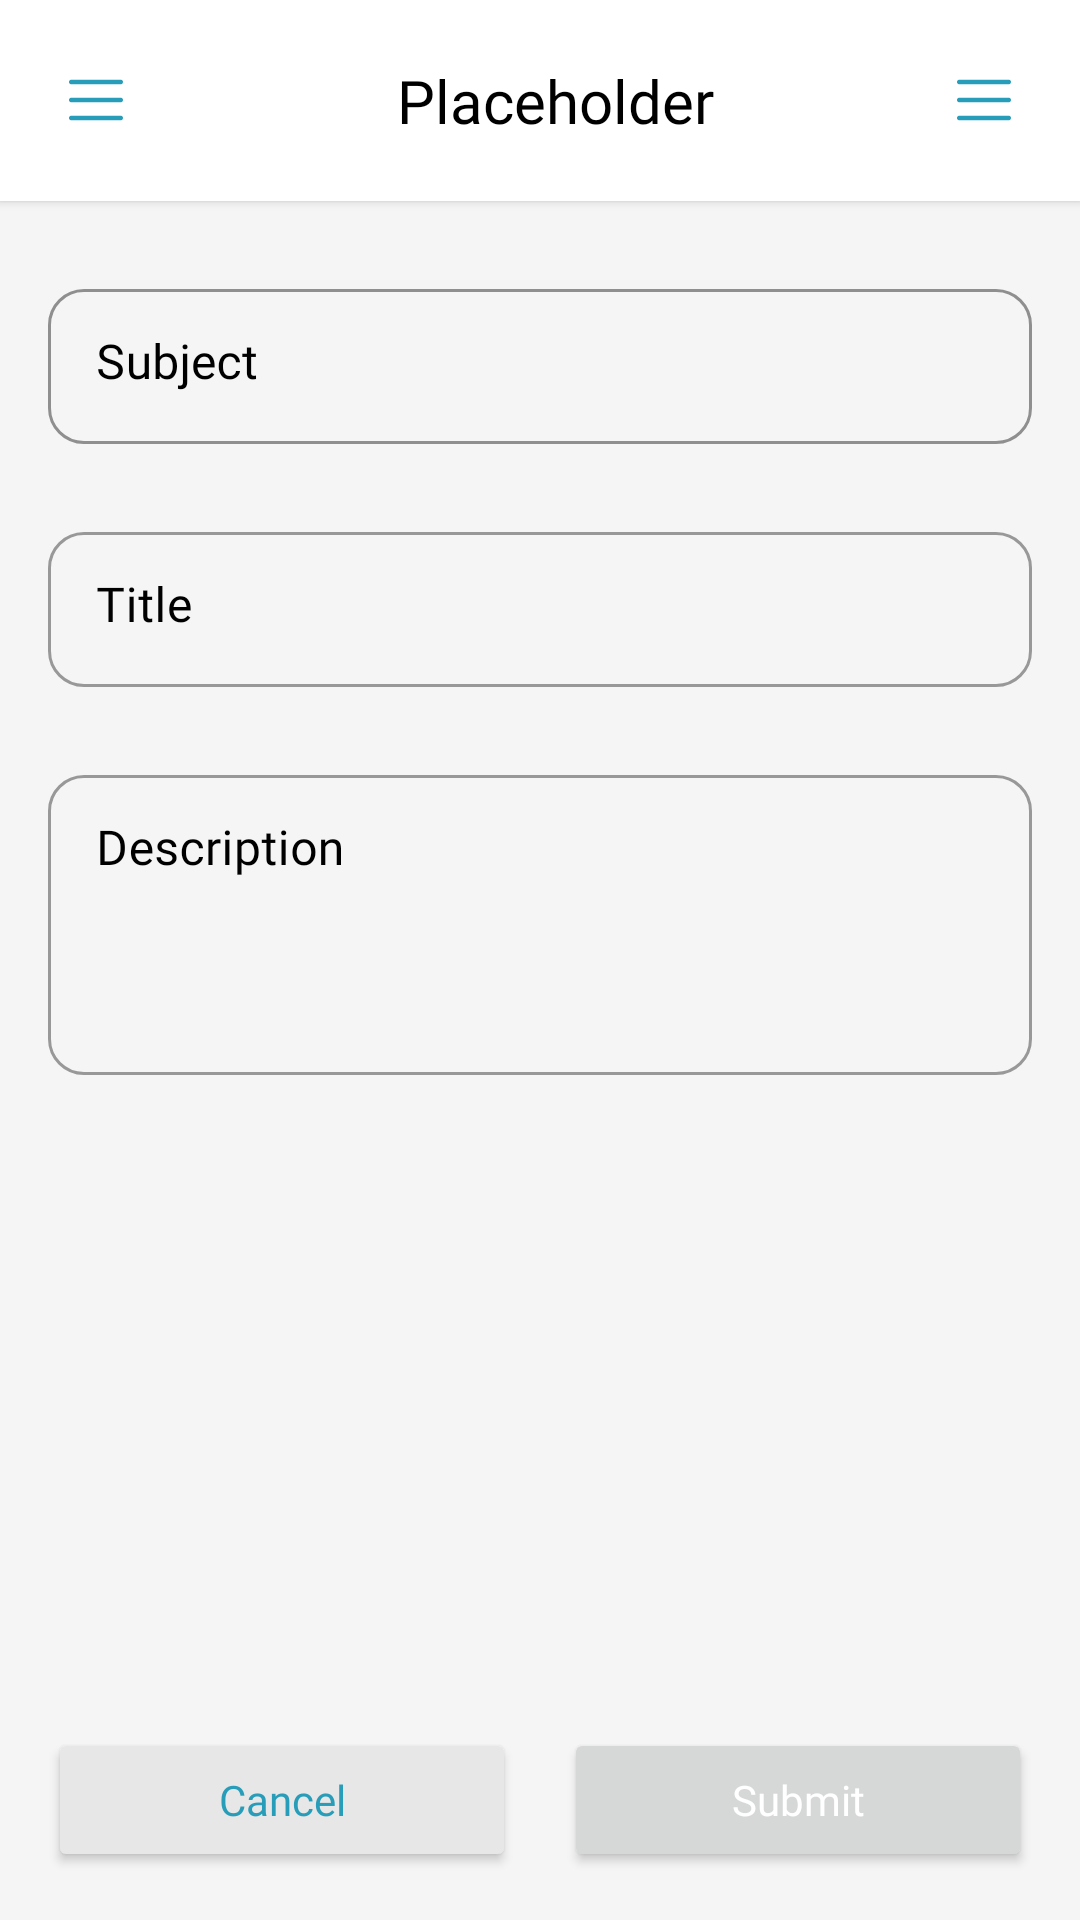

Named icons in this screenshot (1080x1920) and their bounding boxes, (x1, y1, x2, y2):
menu: (69, 79, 123, 121), (957, 79, 1011, 121)
